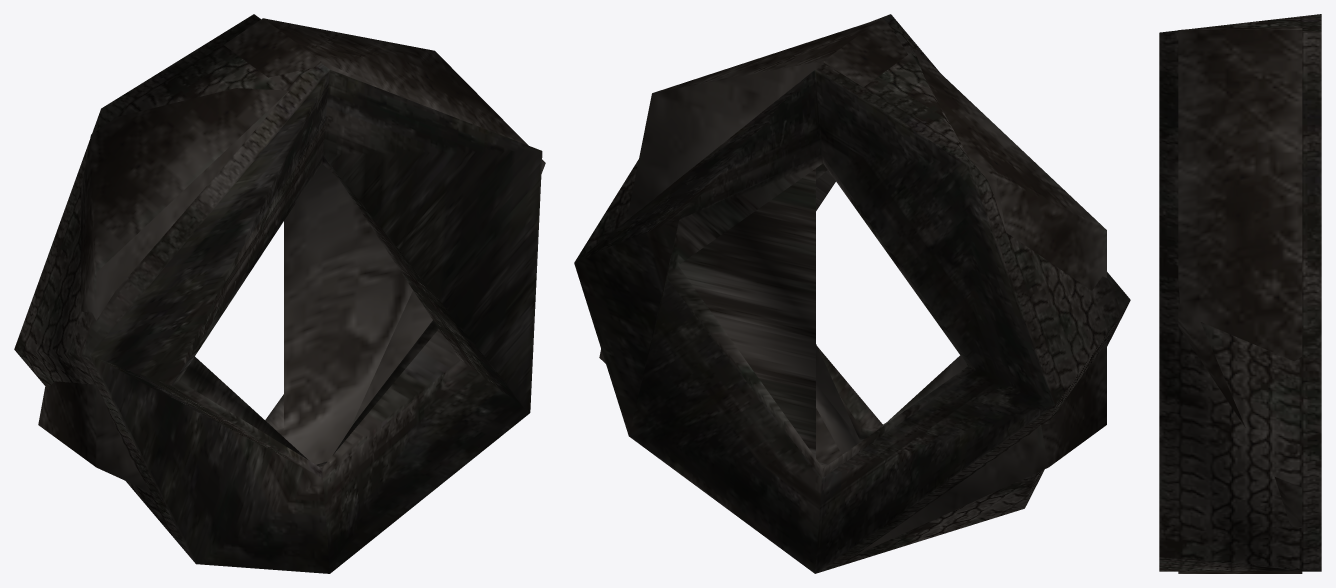
Rendered from old_tyre.glb.
The picture shows the model from 3 angles, left to right: view 1: azimuth 30°, elevation 25°; view 2: azimuth 150°, elevation 25°; view 3: azimuth 270°, elevation 25°; orthographic projection. The views are drawn at different scales.
Parts seen in each view (by area): view 1: old_tyre; view 2: old_tyre; view 3: old_tyre.
Boxes of the visible parts, box(x1,y1,x2,y2) form: old_tyre: box(14, 14, 545, 573); old_tyre: box(574, 14, 1130, 573); old_tyre: box(1159, 14, 1321, 573).
Bounding box in the file's own units: 0.5454 × 0.5517 × 0.149.
Materials: 1 (1 with a texture image).
